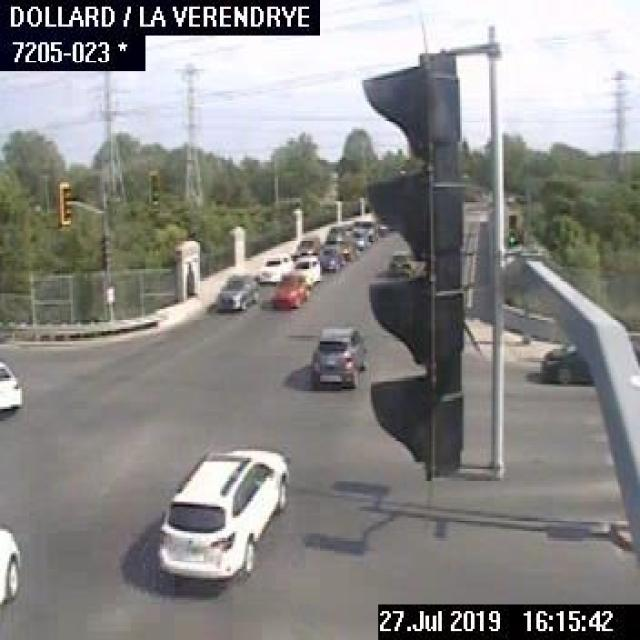vehicle: (154, 442, 291, 584), (538, 342, 638, 384), (309, 325, 369, 391), (0, 526, 22, 604), (214, 270, 259, 308), (269, 274, 310, 307), (0, 360, 24, 411), (259, 251, 291, 280), (384, 247, 414, 276), (291, 254, 320, 284), (350, 220, 375, 247), (320, 246, 341, 272), (293, 235, 320, 255), (337, 238, 359, 259), (324, 223, 344, 243)
